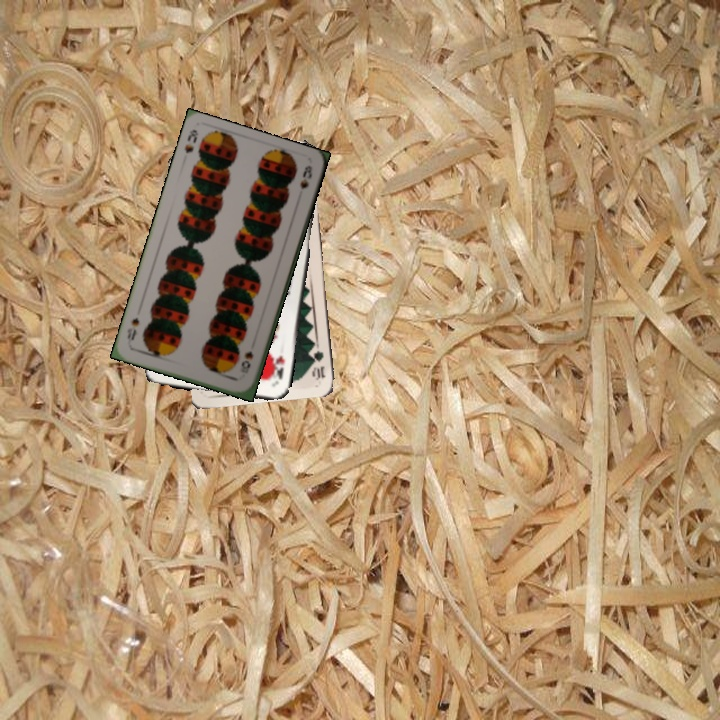G10: (309, 341, 328, 382)
HK: (267, 351, 287, 384)
S8: (180, 126, 201, 156), (236, 347, 256, 376)
